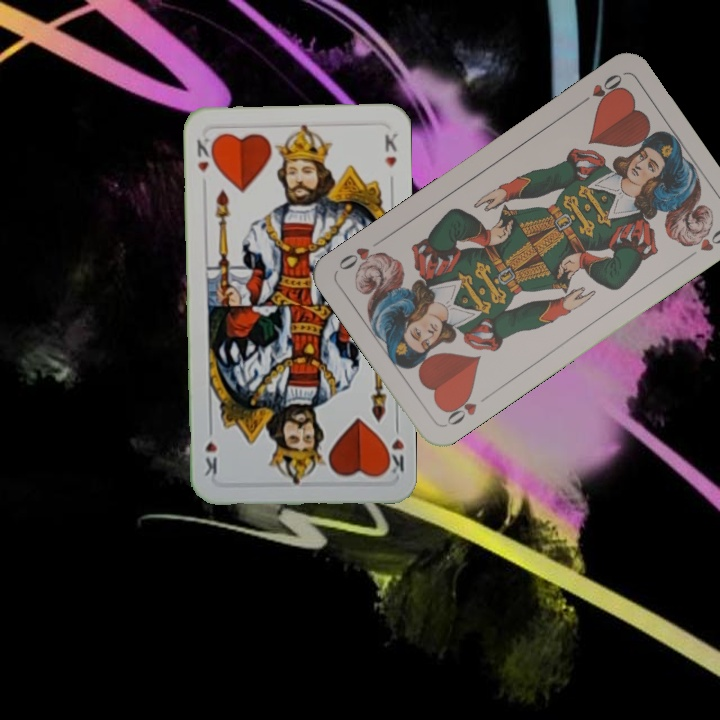HK: (381, 418, 407, 477), (193, 134, 217, 175)
HO: (574, 69, 626, 109), (440, 388, 480, 429)
